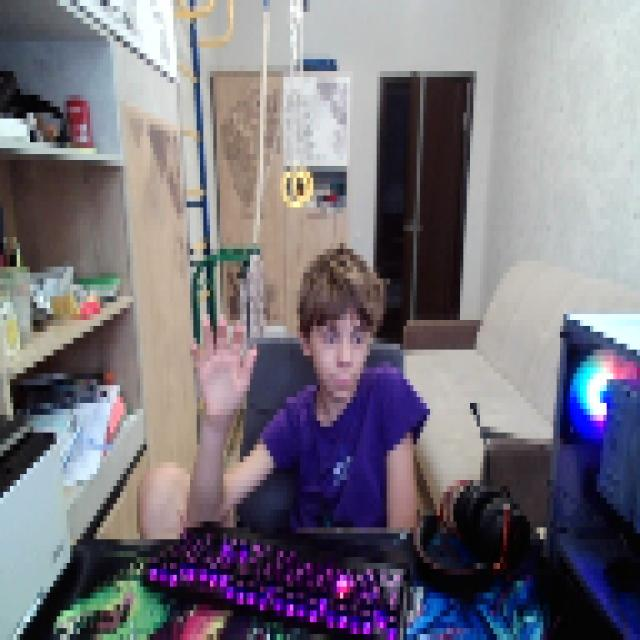hand: (184, 302, 254, 415)
